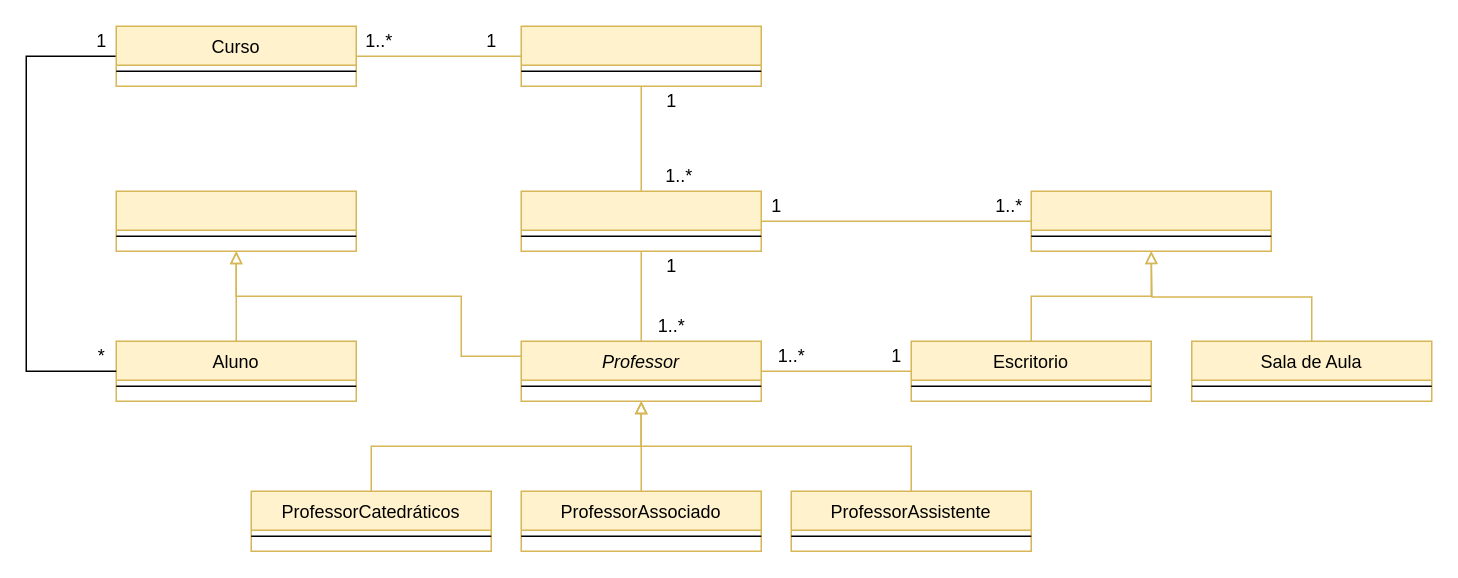
This 1458x578 diagram has some shape labels left out. The box of each missing label's shape, as (x1, y1, x2, y2) in pixels:
Departamento: (520, 190, 761, 251)
Pessoa: (115, 190, 356, 251)
Sala: (1030, 190, 1271, 251)
Universidade: (520, 25, 761, 86)
